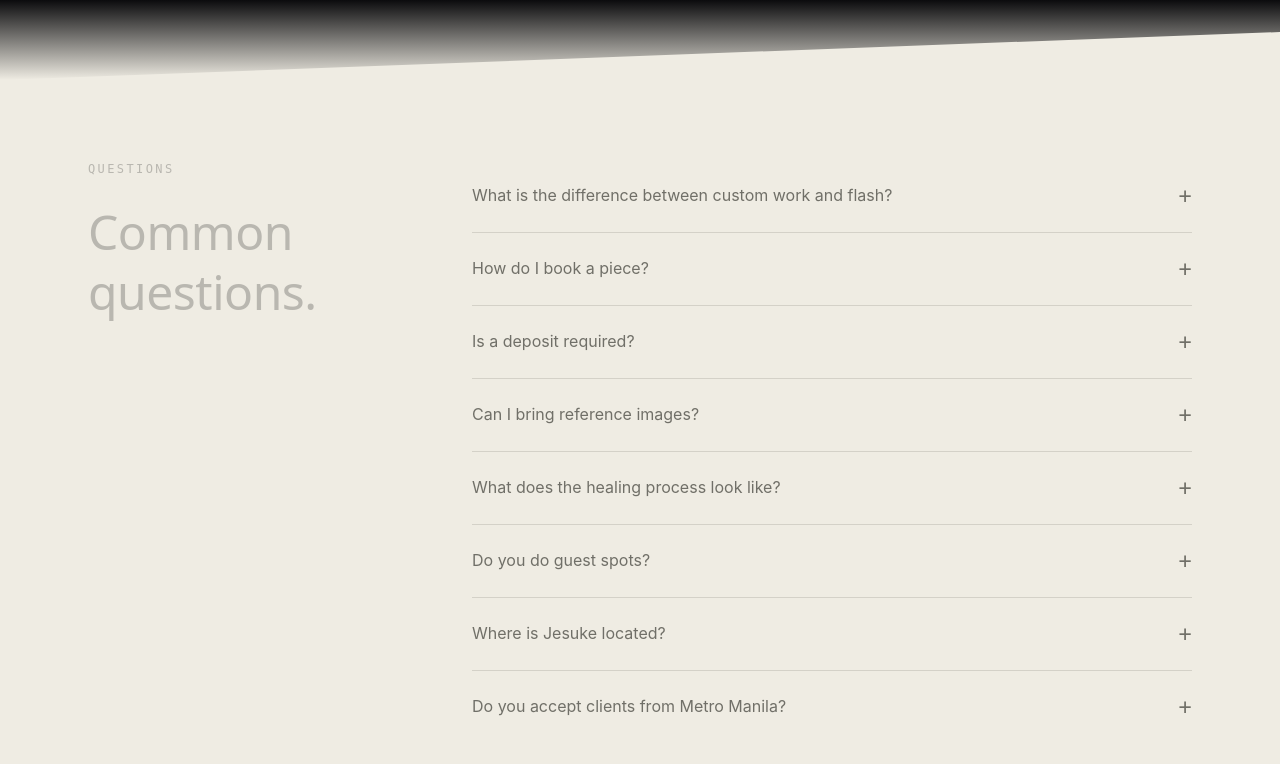
Faq › expands a FAQ item when clicked
Click the button "What is the difference between custom work and flash? +": (832, 196) left=472, top=160, right=1192, bottom=232
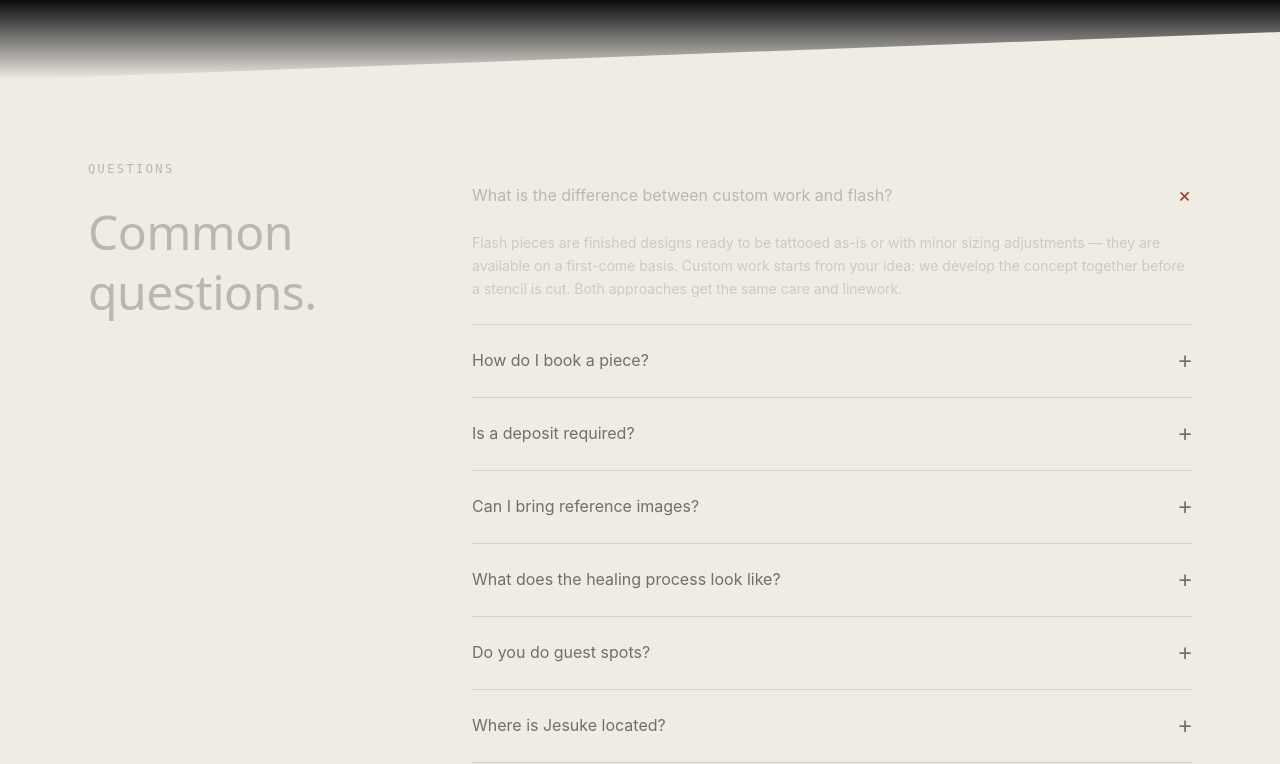
Now the button "What is the difference between custom work and flash? +" is expanded, box left=472, top=160, right=1192, bottom=232
